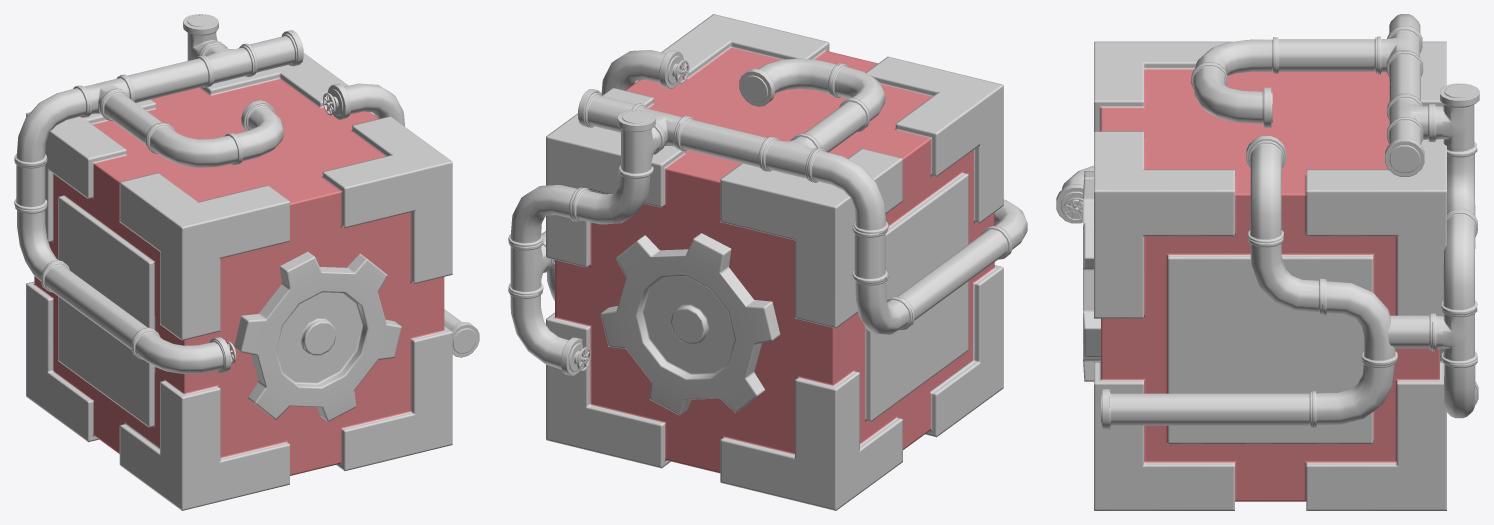
Rendered from steampunkbox.fbx.
3 views of the same model, side by side, from view 1: azimuth 30°, elevation 25°; view 2: azimuth 150°, elevation 25°; view 3: azimuth 270°, elevation 25° (orthographic). The views are drawn at different scales.
Parts seen in each view (by area): view 1: Cube; view 2: Cube; view 3: Cube.
Part boxes in pixels (x1,y1,x2,y2): Cube: (14,14,479,510); Cube: (508,14,1027,510); Cube: (1056,14,1479,510).
Size of the model in its own units: 63.44 by 60.26 by 62.4.
